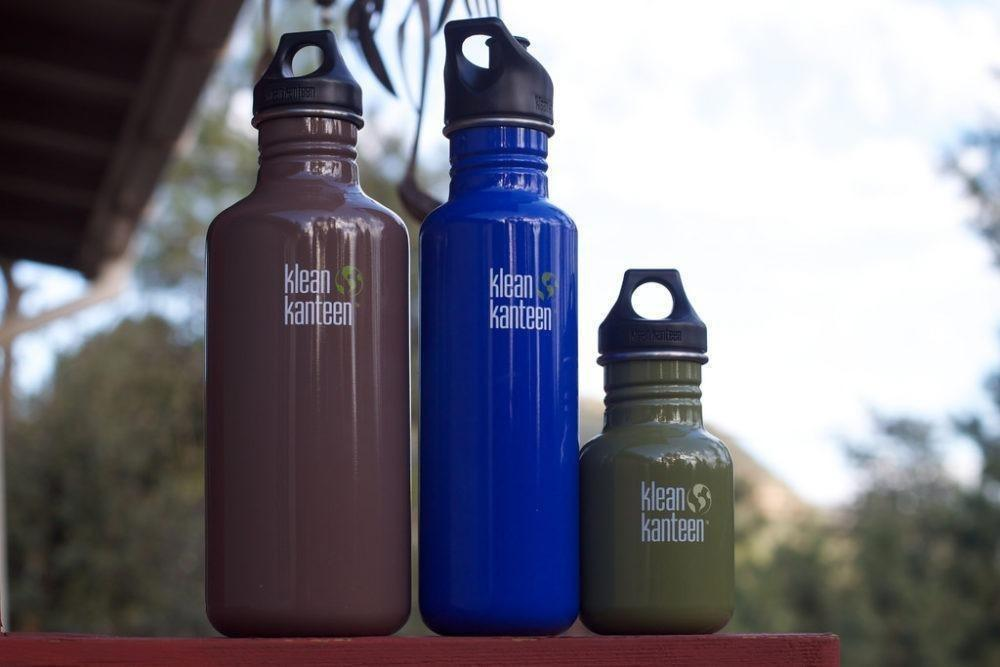gym bottle: (200, 27, 415, 639), (413, 13, 584, 638), (577, 263, 740, 636)
